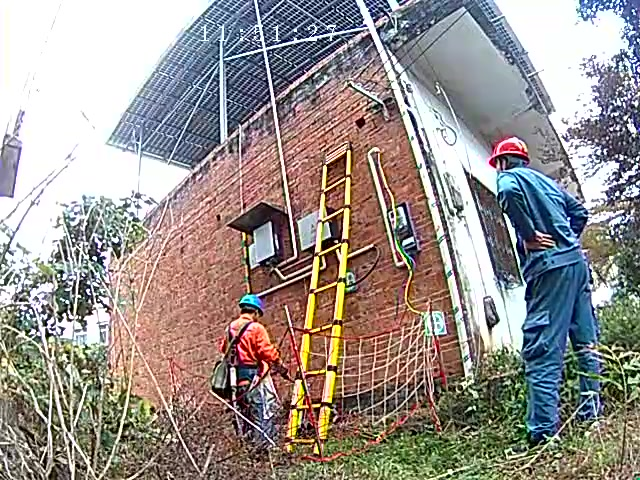halt: (491, 141, 533, 175), (240, 298, 267, 322)
